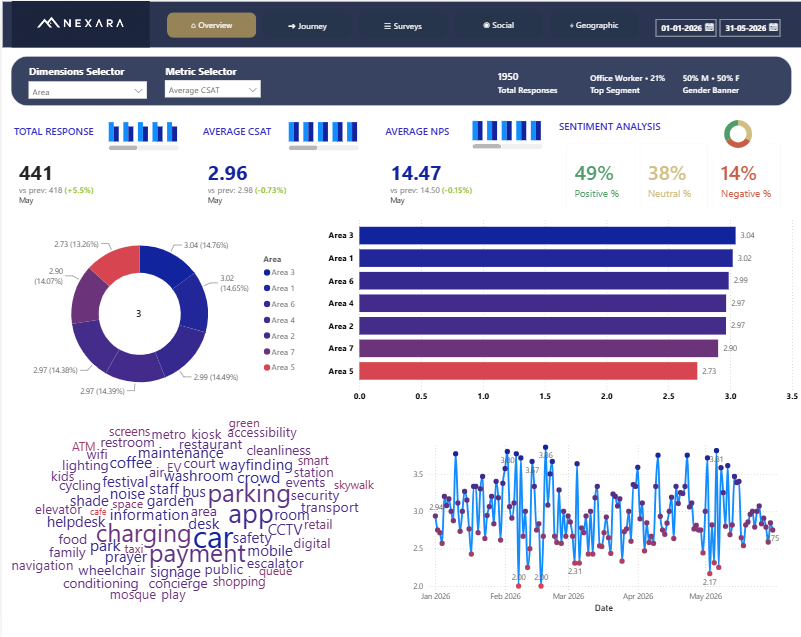

The page's visual inventory and layout, read from the dashboard file:
{"tool":"powerbi","page":{"name":"⌂ Overview","canvas":[1280,1020],"ordinal":0},"visuals":[{"type":"donutChart","fields":{"Category":["Fact_Survey.District"],"Y":["Fact_Survey.Selected Metric"]},"box":[17.5,342.5,465,317.5],"z":0},{"type":"shape","box":[14.3,178.6,274.3,184.3],"z":1000},{"type":"shape","box":[306.9,177.4,274.3,184.3],"z":2000},{"type":"shape","box":[598,177.4,274.3,184.3],"z":3000},{"type":"shape","box":[0,0,1280,74.8],"z":4000},{"type":"shape","box":[886,180,378,184],"z":5000},{"type":"shape","box":[14,88,1250,80],"z":6000},{"type":"pageNavigator","box":[263.3,18.3,758.3,41.7],"z":8000},{"type":"slicer","fields":{"Values":["Dim_Date.Date"]},"box":[1038.3,23.3,241.7,38.3],"z":9000},{"type":"textbox","box":[38.3,95,211.7,35],"z":10000},{"type":"textbox","box":[255,95,198.3,35],"z":11000},{"type":"cardVisual","fields":{"Data":["Fact_Survey.Total Responses","Fact_Survey.Top Segment","Fact_Survey.Gender Banner"]},"box":[763.6,88.2,480,83.6],"z":12000},{"type":"kpi","title":"TOTAL RESPONSE","fields":{"Goal":["Fact_Survey.Previous Total Responses"],"Indicator":["Fact_Survey.Total Responses"],"TrendLine":["Dim_Date.Date.Variation.Date Hierarchy.Month"]},"box":[14,192,242,170],"z":13000},{"type":"kpi","title":"AVERAGE CSAT","fields":{"Goal":["Fact_Survey.Previous CSAT"],"Indicator":["Avg(Fact_Survey.CSAT)"],"TrendLine":["Dim_Date.Date.Variation.Date Hierarchy.Month"]},"box":[316.9,191.7,231.4,170],"z":14000},{"type":"kpi","title":"AVERAGE NPS","fields":{"Goal":["Fact_Survey.Previous NPS"],"Indicator":["Avg(Fact_Survey.NPS)"],"TrendLine":["Dim_Date.Date.Variation.Date Hierarchy.Month"]},"box":[608,191.7,231.4,170],"z":15000},{"type":"slicer","fields":{"Values":["Parameter.Parameter"]},"box":[38.3,123.3,198.3,38.3],"z":16000},{"type":"cardVisual","title":"SENTIMENT ANALYSIS","fields":{"Data":["Fact_Survey.Positive %","Fact_Survey.Neutral %","Fact_Survey.Negative %"]},"box":[886,184,378,172],"z":17000},{"type":"lineChart","title":"TRENDS","fields":{"Category":["Dim_Date.Date.Variation.Date Hierarchy.Year","Dim_Date.Date.Variation.Date Hierarchy.Quarter","Dim_Date.Date.Variation.Date Hierarchy.Month","Dim_Date.Date.Variation.Date Hierarchy.Day"],"Y":["Fact_Survey.Selected Metric"]},"box":[625,696.7,638.3,288.3],"z":18000},{"type":"clusteredColumnChart","fields":{"Category":["Fact_Social_1.Date.Variation.Date Hierarchy.Month"],"Y":["Fact_Survey.Total Responses","Fact_Survey.Previous Total Responses"]},"box":[166,180,122,64],"z":19000},{"type":"clusteredColumnChart","fields":{"Category":["Fact_Social_1.Date.Variation.Date Hierarchy.Month"],"Y":["Fact_Survey.Previous CSAT","Fact_Survey.Average CSAT"]},"box":[454,180,122,64],"z":20000},{"type":"clusteredColumnChart","fields":{"Category":["Fact_Social_1.Date.Variation.Date Hierarchy.Month"],"Y":["Fact_Survey.Average NPS","Fact_Survey.Previous NPS"]},"box":[748,178,122,64],"z":21000},{"type":"donutChart","fields":{"Category":["Fact_Social.Sentiment"],"Y":["Fact_Survey.Selected Metric"]},"box":[1132,180,92,66],"z":22000},{"type":"cardVisual","fields":{"Data":["Fact_Survey.Selected Metric"]},"box":[102.9,435.7,234.3,124.3],"z":23000},{"type":"shape","box":[480,336,786,332],"z":24000},{"type":"clusteredBarChart","fields":{"Category":["Fact_Survey.District"],"Y":["Fact_Survey.Selected Metric"]},"box":[516.7,333.3,763.3,318.3],"z":25000},{"type":"shape","box":[2,666,592,332],"z":26000},{"type":"WordCloud1447959067750","fields":{"Category":["Fact_Survey.Keyword"],"Values":["Fact_Survey.Selected Metric"]},"box":[0,652,624,346],"z":27000},{"type":"slicer","fields":{"Values":["Metric Selector.Metric"]},"box":[255.7,122.9,162.9,35.7],"z":28000},{"type":"image","box":[2,0,248,74],"z":28001}]}

Visuals, with their boxes in screenshot pixels (x1, y1, x2, y2), scaled from the page's 1280x1020 canvas onto the 801x637 screenshot:
donutChart - Fact_Survey.District x Fact_Survey.Selected Metric: region(11, 214, 302, 412)
shape: region(9, 112, 181, 227)
shape: region(192, 111, 364, 226)
shape: region(374, 111, 546, 226)
shape: region(0, 0, 800, 47)
shape: region(554, 112, 791, 227)
shape: region(9, 55, 791, 105)
pageNavigator: region(165, 11, 639, 37)
slicer - Dim_Date.Date: region(650, 15, 800, 38)
textbox: region(24, 59, 156, 81)
textbox: region(160, 59, 284, 81)
cardVisual - Fact_Survey.Total Responses x Fact_Survey.Top Segment: region(478, 55, 778, 107)
"TOTAL RESPONSE" kpi: region(9, 120, 160, 226)
"AVERAGE CSAT" kpi: region(198, 120, 343, 226)
"AVERAGE NPS" kpi: region(380, 120, 525, 226)
slicer - Parameter.Parameter: region(24, 77, 148, 101)
"SENTIMENT ANALYSIS" cardVisual: region(554, 115, 791, 222)
"TRENDS" lineChart: region(391, 435, 791, 615)
clusteredColumnChart - Fact_Social_1.Date.Variation.Date Hierarchy.Month x Fact_Survey.Total Responses: region(104, 112, 180, 152)
clusteredColumnChart - Fact_Social_1.Date.Variation.Date Hierarchy.Month x Fact_Survey.Previous CSAT: region(284, 112, 360, 152)
clusteredColumnChart - Fact_Social_1.Date.Variation.Date Hierarchy.Month x Fact_Survey.Average NPS: region(468, 111, 544, 151)
donutChart - Fact_Social.Sentiment x Fact_Survey.Selected Metric: region(708, 112, 766, 154)
cardVisual - Fact_Survey.Selected Metric: region(64, 272, 211, 350)
shape: region(300, 210, 792, 417)
clusteredBarChart - Fact_Survey.District x Fact_Survey.Selected Metric: region(323, 208, 800, 407)
shape: region(1, 416, 372, 623)
WordCloud1447959067750 - Fact_Survey.Keyword x Fact_Survey.Selected Metric: region(0, 407, 390, 623)
slicer - Metric Selector.Metric: region(160, 77, 262, 99)
image: region(1, 0, 156, 46)
